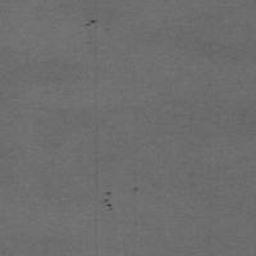Inclusion: (102, 189, 114, 211), (83, 17, 99, 28), (133, 186, 141, 193)
